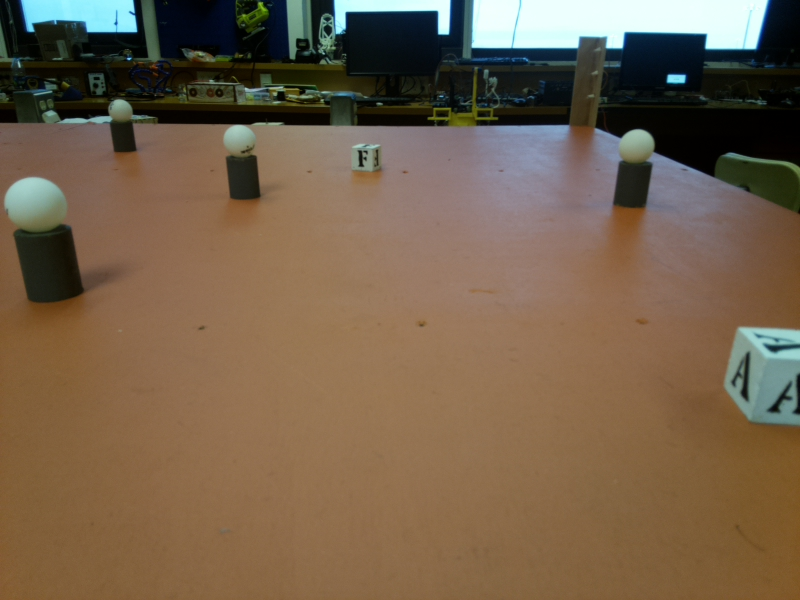blockA: (721, 327, 800, 422)
blockF: (353, 141, 383, 177)
corner: (573, 37, 607, 126)
obstacle: (10, 173, 75, 308), (614, 129, 656, 203), (226, 123, 262, 199), (108, 96, 136, 147)
